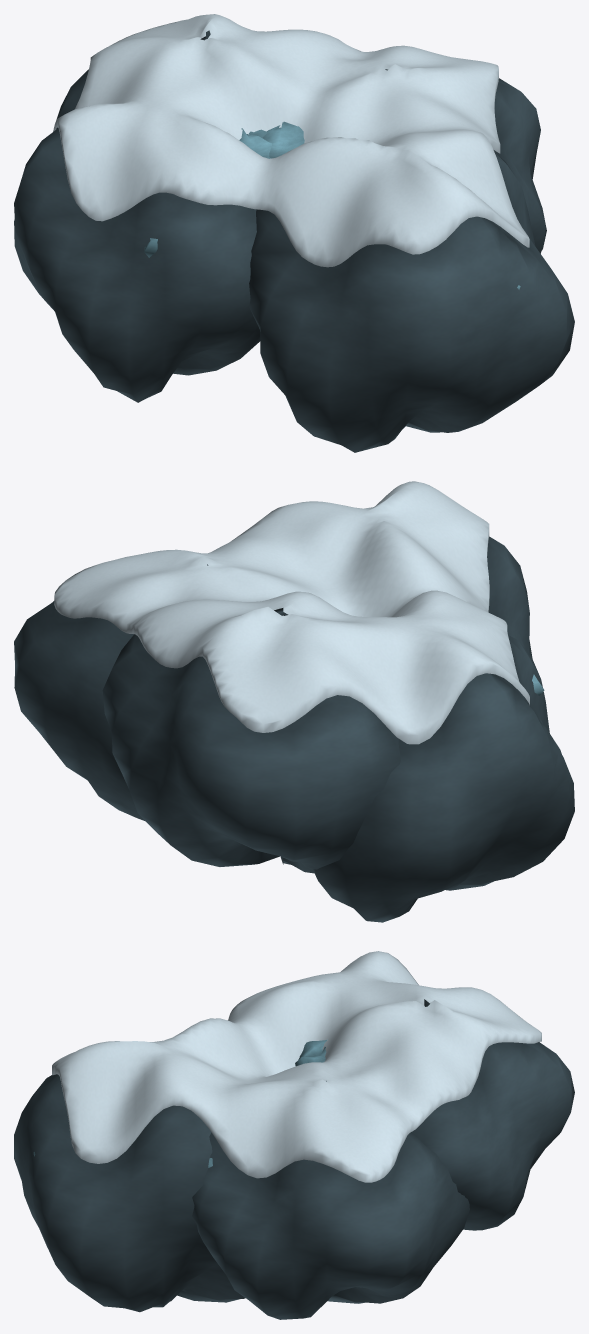
The model's file is metal.glb.
The picture shows the model from 3 angles, top to bottom: view 1: azimuth 30°, elevation 25°; view 2: azimuth 150°, elevation 25°; view 3: azimuth 270°, elevation 25°; orthographic projection. The views are drawn at different scales.
Parts seen in each view (by area): view 1: metal; view 2: metal; view 3: metal.
Part boxes in pixels (x1,y1,x2,y2): metal: [14, 14, 574, 452]; metal: [14, 481, 574, 922]; metal: [14, 951, 574, 1319].
Size of the model in its own units: 1.54 by 0.8892 by 1.61.
Materials: 3 (3 with a texture image).
